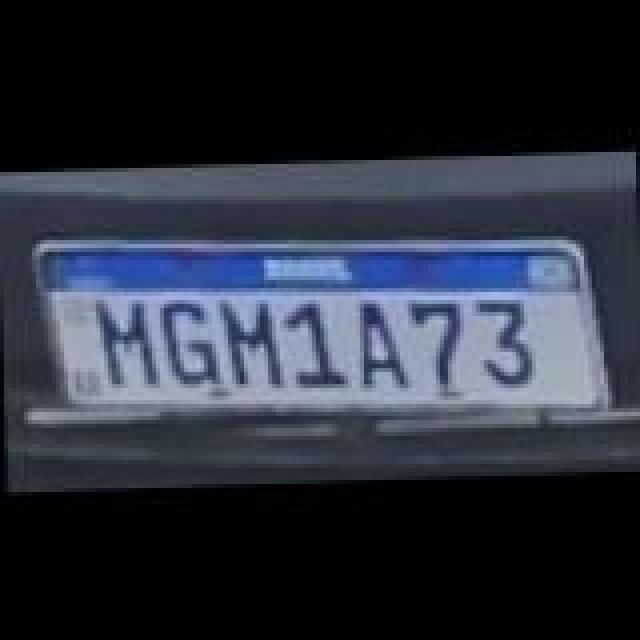1: (276, 298, 348, 390)
3: (466, 294, 542, 390)
7: (406, 298, 474, 390)
A: (346, 294, 414, 390)
G: (150, 294, 226, 386)
M: (88, 294, 168, 390), (210, 294, 286, 390)
